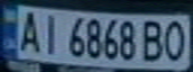6: (63, 14, 87, 58), (103, 16, 121, 61)
8: (81, 16, 106, 60), (118, 17, 142, 62)
A: (15, 8, 45, 54)
B: (139, 17, 169, 62)
I: (36, 10, 63, 55)
O: (160, 17, 190, 63)
